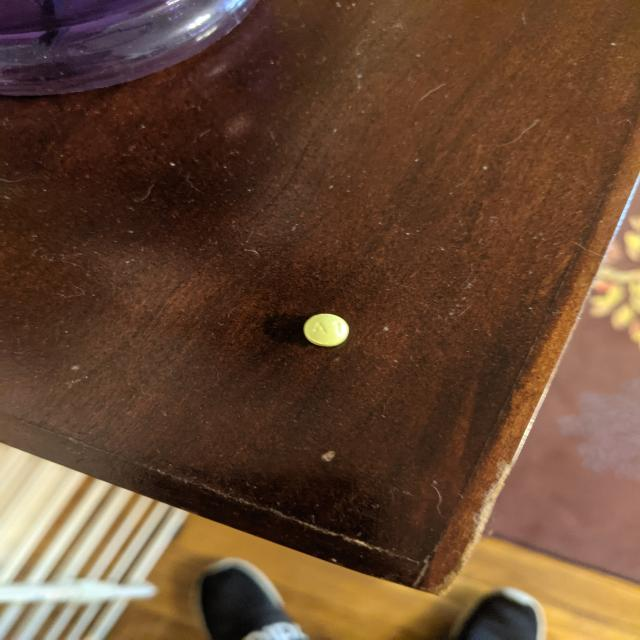non-organic waste: (302, 312, 350, 348)
